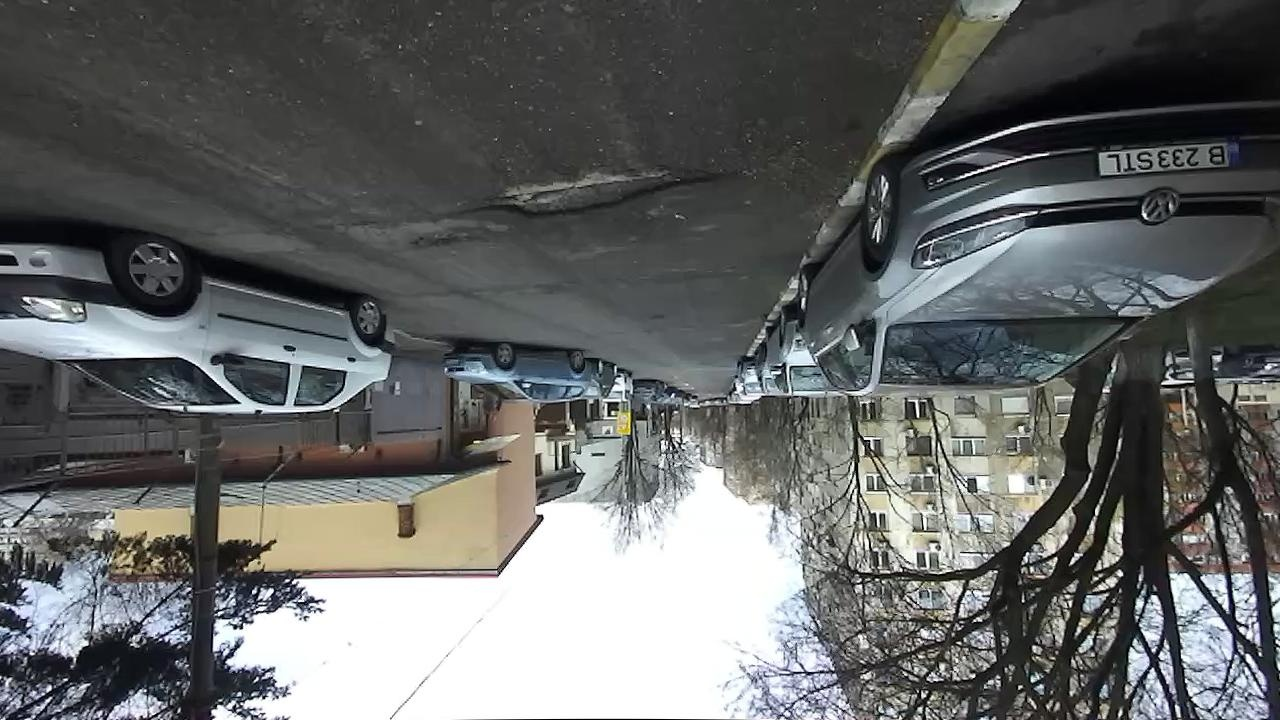pothole: (460, 163, 720, 222), (401, 231, 486, 254)
